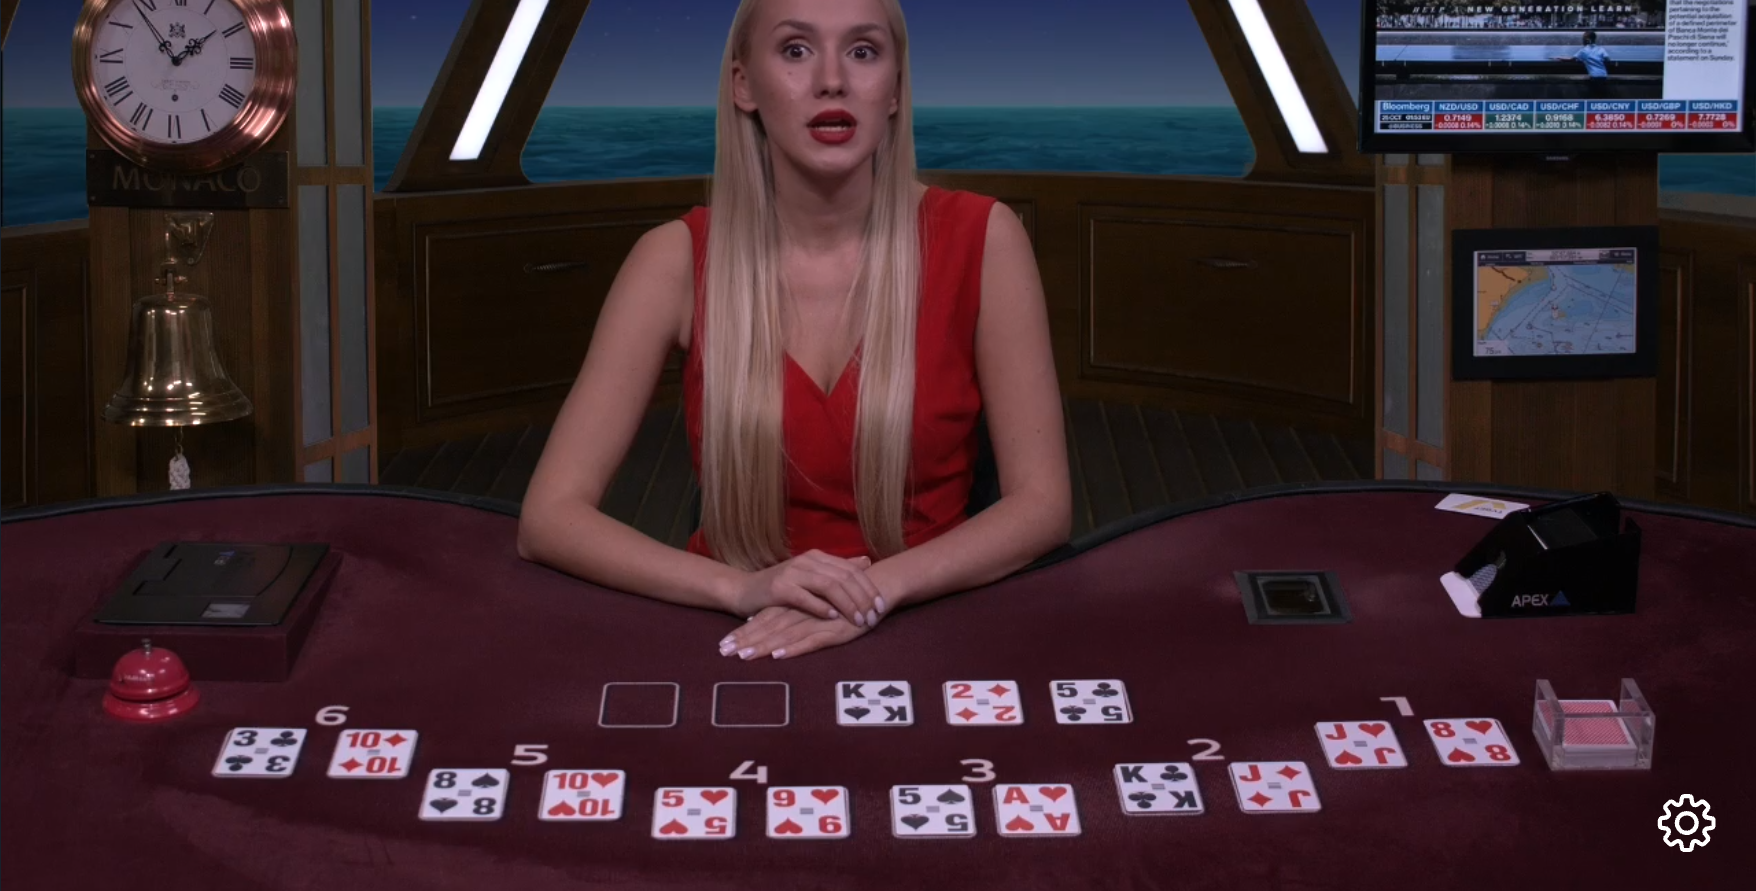10d: (324, 726, 415, 784)
10h: (540, 766, 632, 822)
2d: (940, 676, 1029, 731)
3c: (215, 725, 302, 778)
5c: (1045, 674, 1139, 730)
5h: (650, 778, 739, 840)
5s: (890, 782, 980, 841)
8h: (1420, 716, 1522, 769)
8s: (425, 763, 509, 821)
9h: (766, 784, 855, 843)
ash: (985, 780, 1087, 839)
jd: (1226, 758, 1321, 819)
jh: (1314, 719, 1415, 774)
kc: (1107, 755, 1204, 816)
ks: (831, 676, 920, 734)
